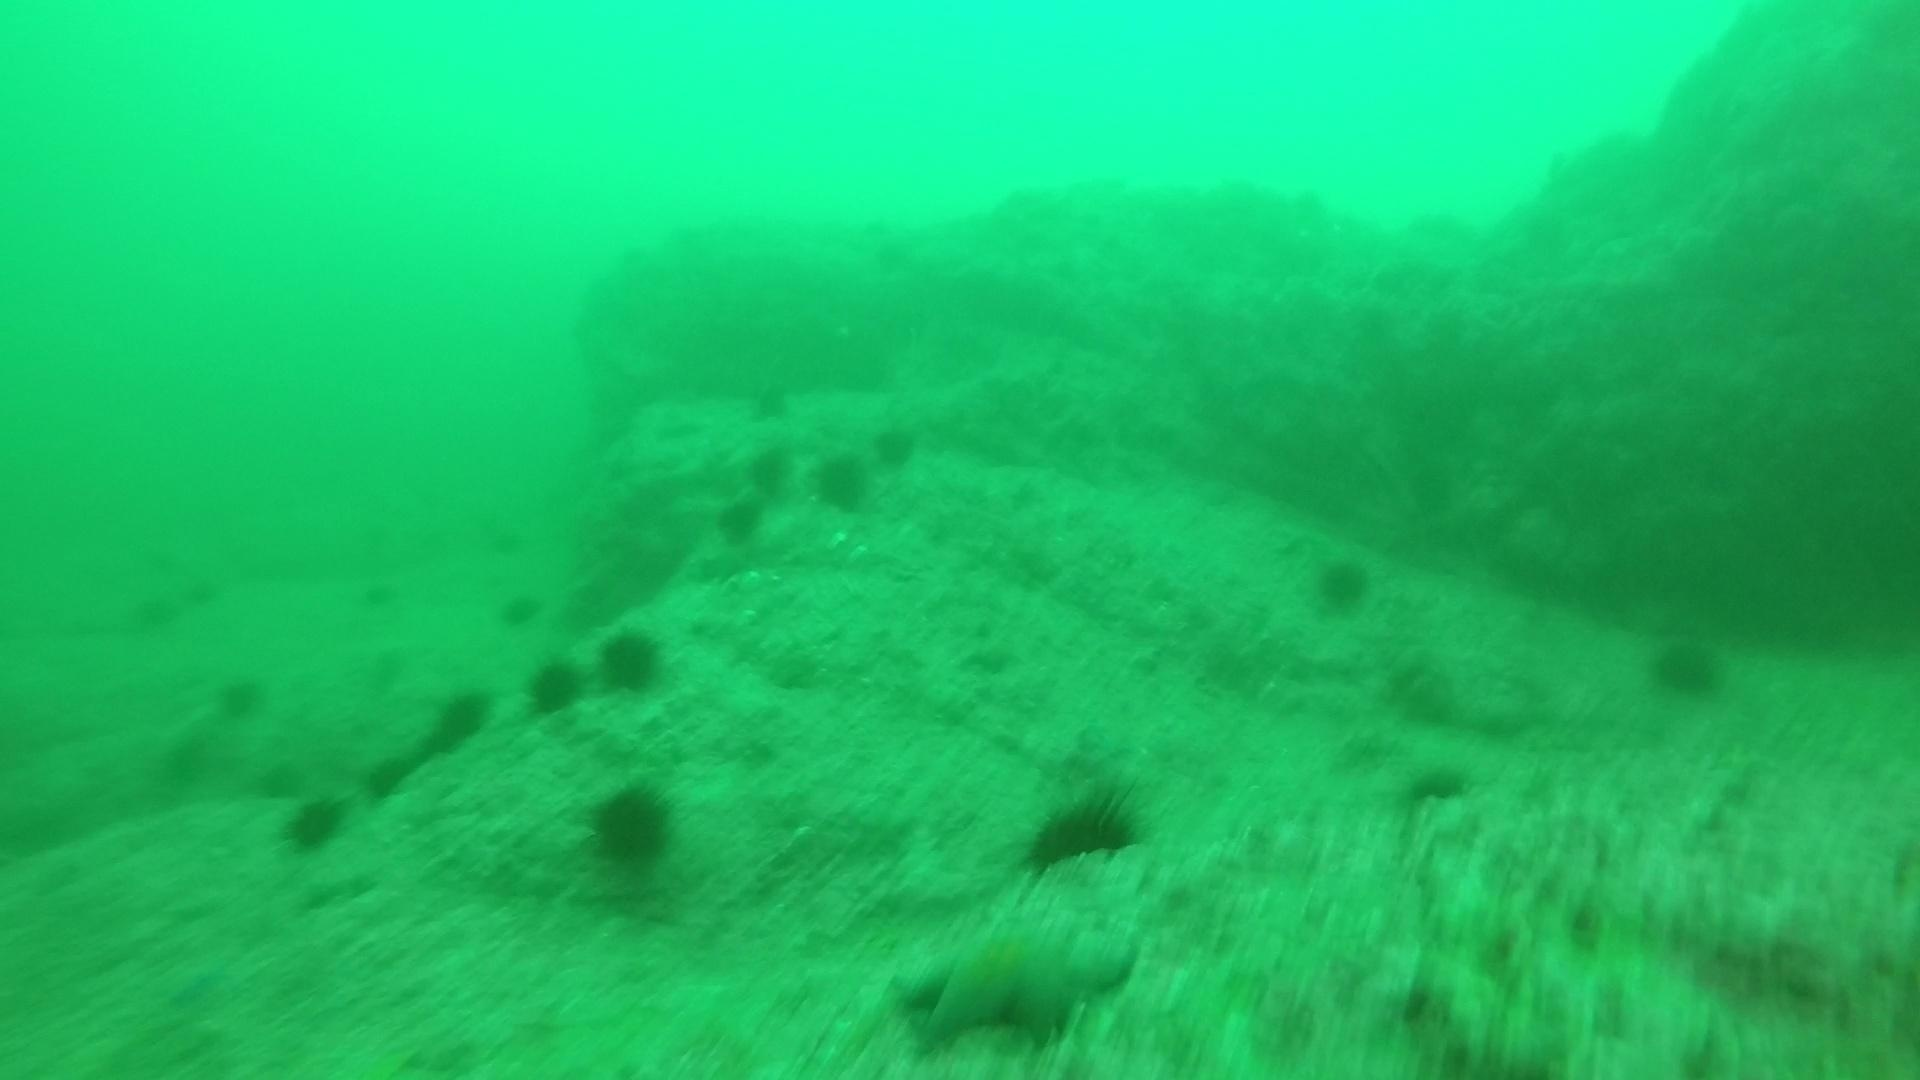echinus: (530, 622, 667, 713), (1018, 785, 1145, 877), (580, 777, 680, 877), (589, 622, 673, 700), (1643, 630, 1729, 702), (274, 789, 353, 858), (421, 684, 495, 756), (806, 448, 877, 517), (1305, 550, 1378, 617), (1396, 756, 1476, 815), (521, 654, 589, 719), (741, 439, 796, 501), (740, 371, 795, 433), (210, 669, 270, 724), (160, 725, 220, 781), (484, 521, 545, 576), (132, 542, 193, 597), (862, 231, 916, 293), (711, 493, 769, 550), (356, 564, 415, 620), (121, 585, 181, 640), (156, 572, 215, 626), (868, 418, 922, 473), (357, 752, 413, 804), (495, 587, 543, 632)
starfish: (891, 905, 1135, 1055)
